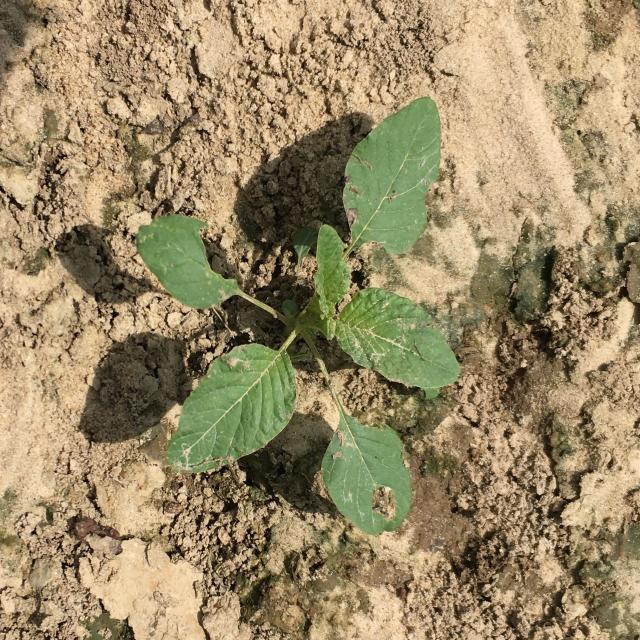PalmerAmaranth: (136, 97, 461, 534)
